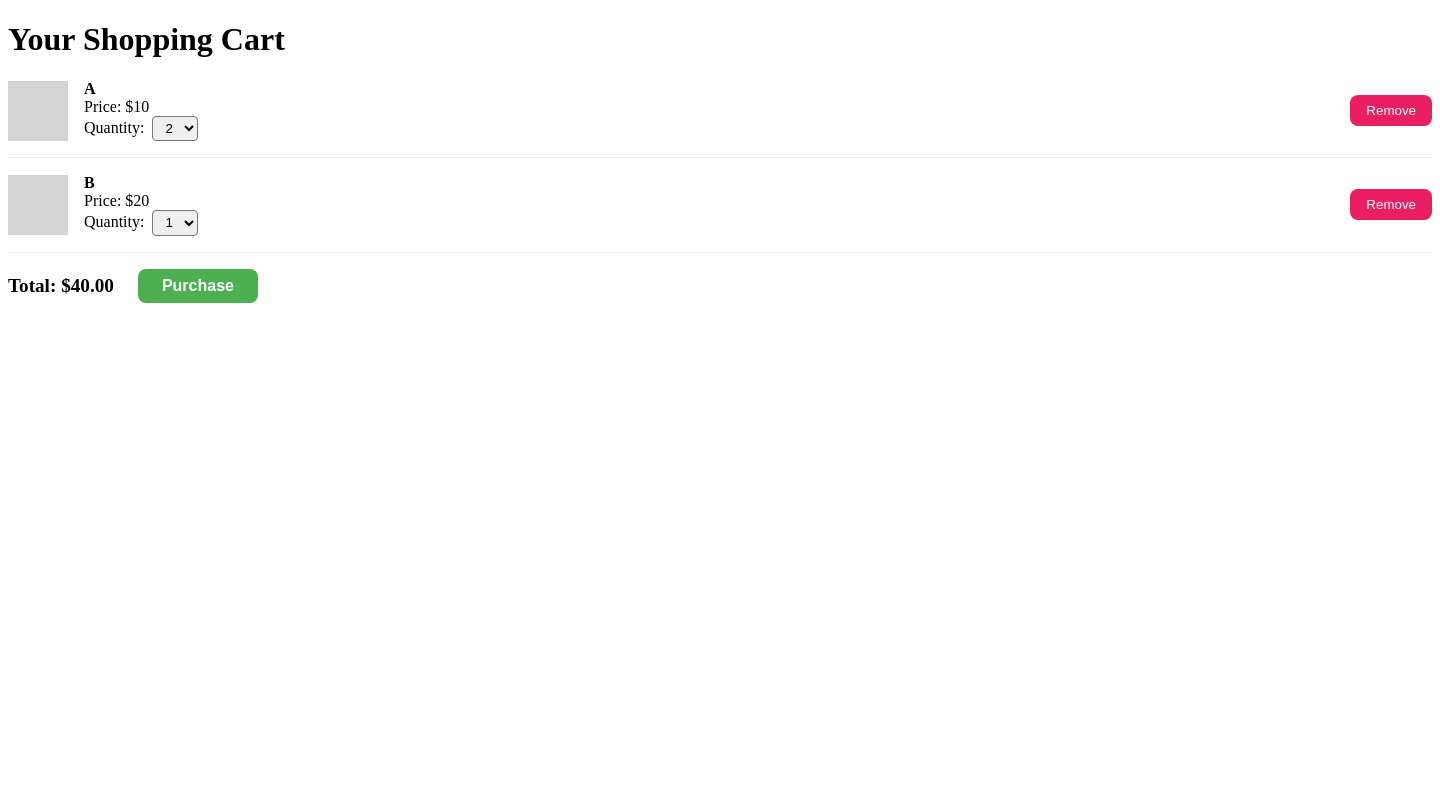
Scenario: ShoppingCart › navigates to OrderPage with cart state on Purchase
The width and height of the screenshot is (1440, 810).
expect the text "A" is shown: met, box [84,80,96,97]
Click the button "Purchase". click: click(198, 286)
box: [138,269,258,303]
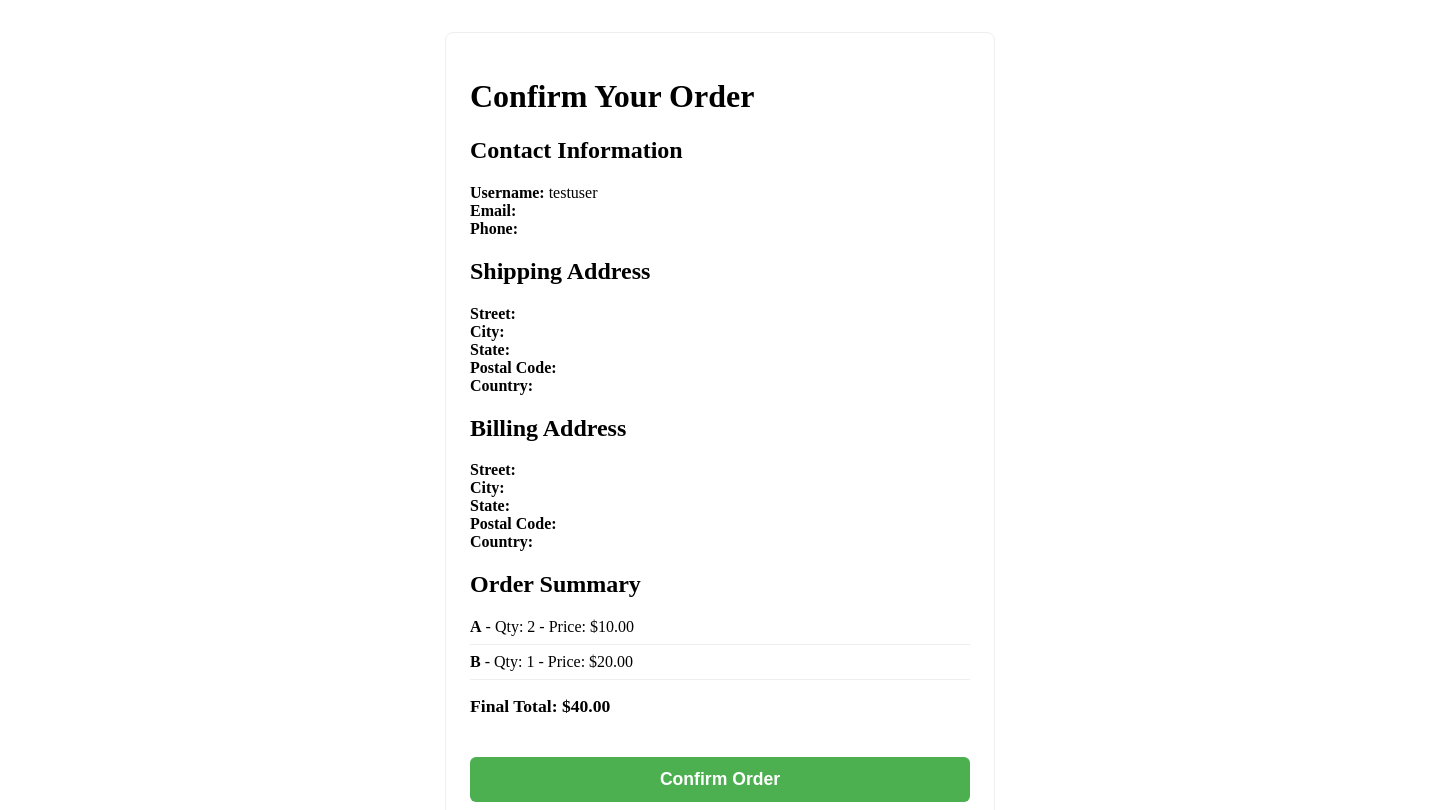
expect the heading "Order Summary" is shown: met, box [470,571,641,597]
